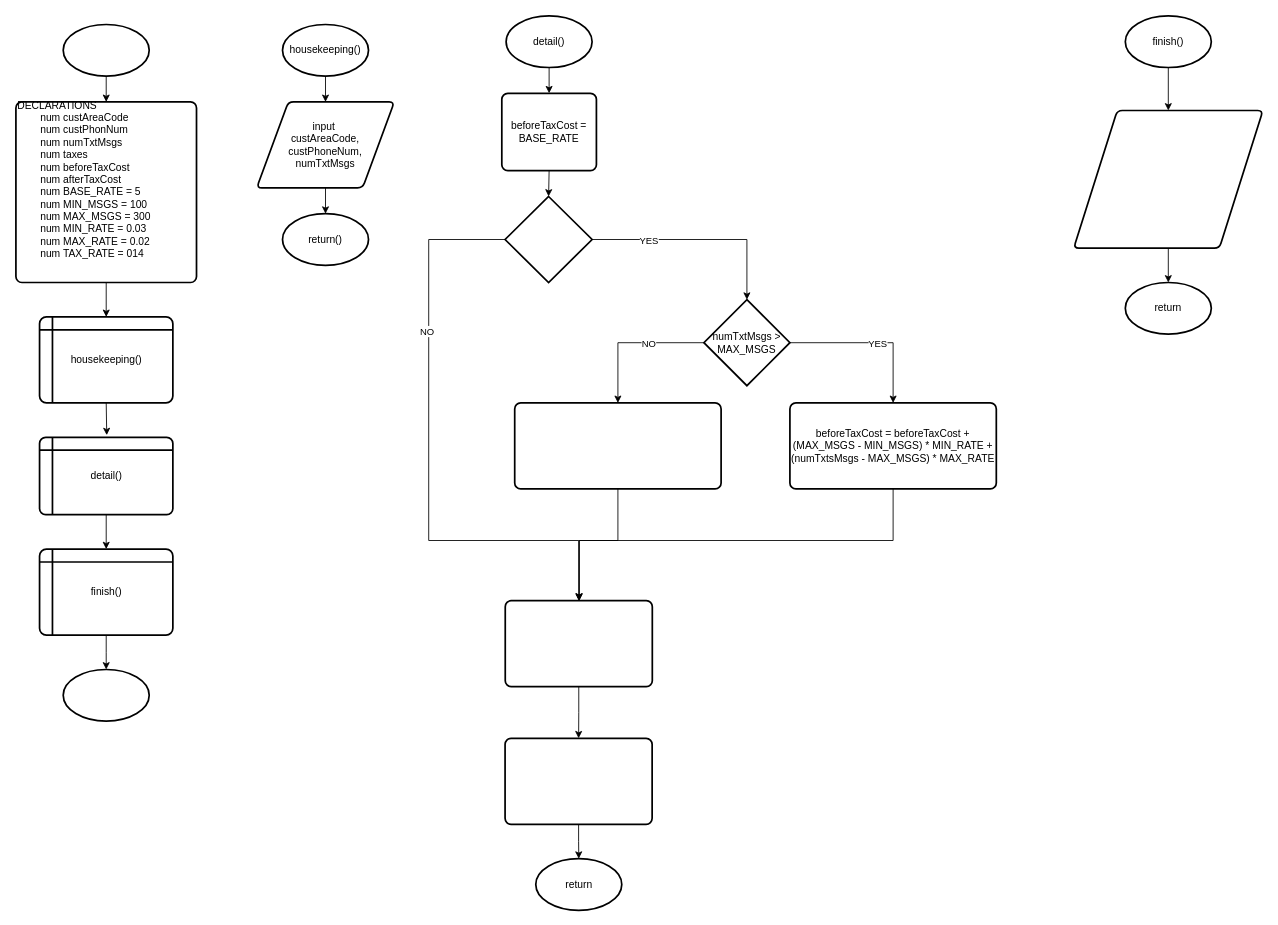
The diagram is 1278 pixels wide and 925 high, and some of its shapes have lost their labels. The centre of each missing label's shape, as x and y in pixels:
afterTaxCost = beforeTaxCost + taxes: the point at 578,781
beforeTaxCost = beforeTaxCost + (numTxtsMsgs - MIN_MSGS) * MIN_RATE: the point at 617,445
numTxtMsgs > MIN_MSGS: the point at 548,239
output custAreaCode custPhoneNum, numTxtMsgs beforeTaxCost afterTaxCost: the point at 1167,179
START: the point at 106,50
STOP: the point at 106,695
taxes = beforeTaxCost * TAX_RATE: the point at 578,643
